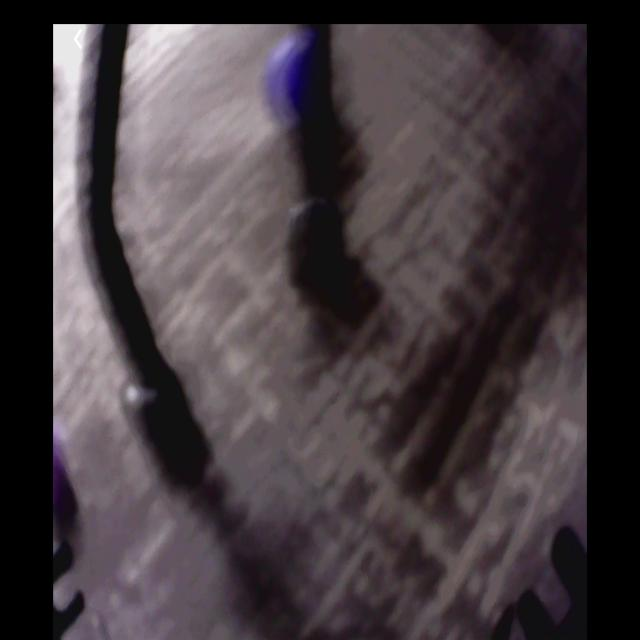ball: (272, 46, 303, 118), (52, 430, 78, 512)
